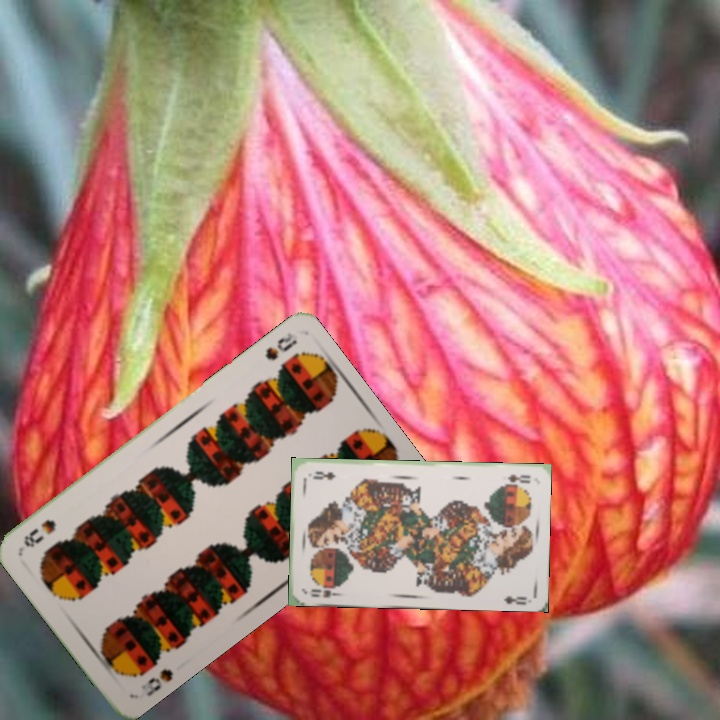S8: (261, 328, 300, 363), (142, 664, 176, 699)
SO: (307, 585, 344, 600), (503, 470, 533, 486)
